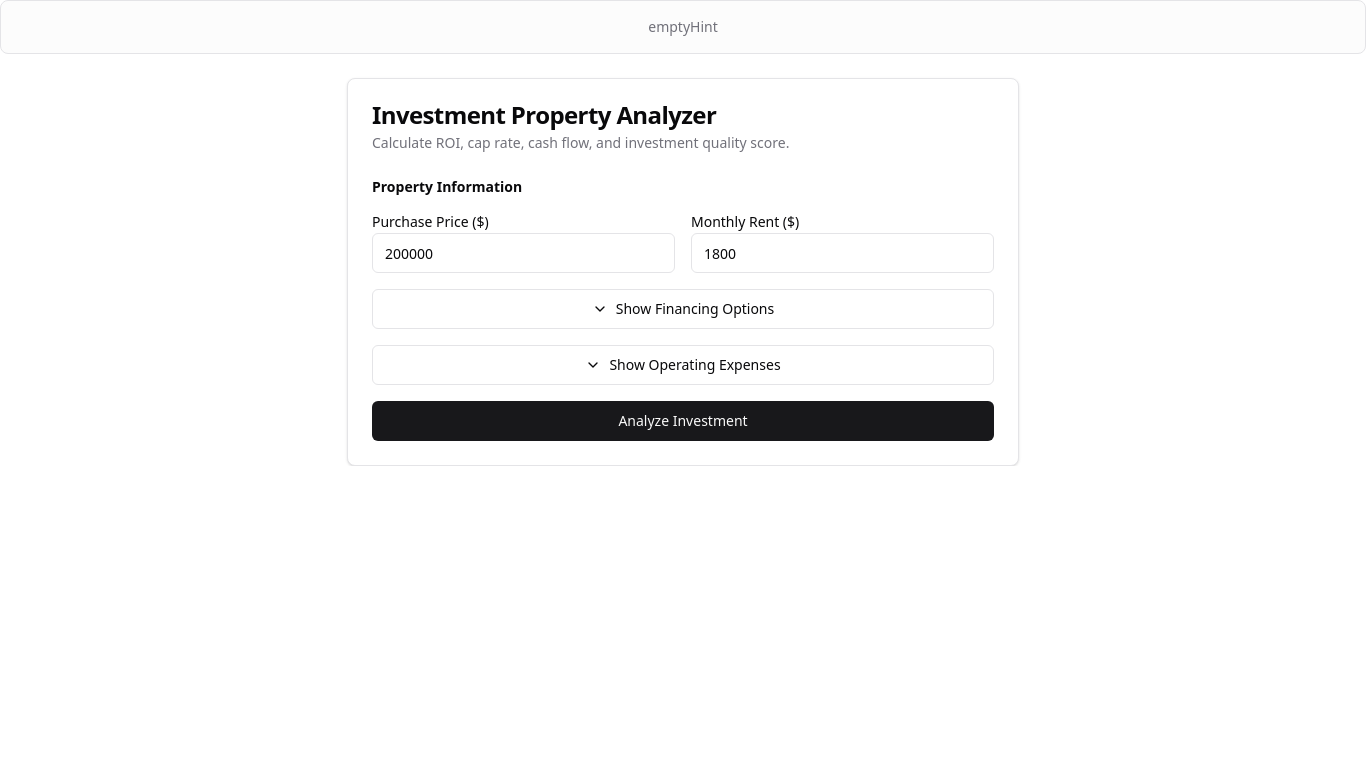
it: InvestmentAnalyzer › shows operating expenses when toggled
The width and height of the screenshot is (1366, 768).
Expected: the field labelled "Property Tax" is not shown
Click the button "Show Operating Expenses": (683, 365) [372, 345, 994, 385]
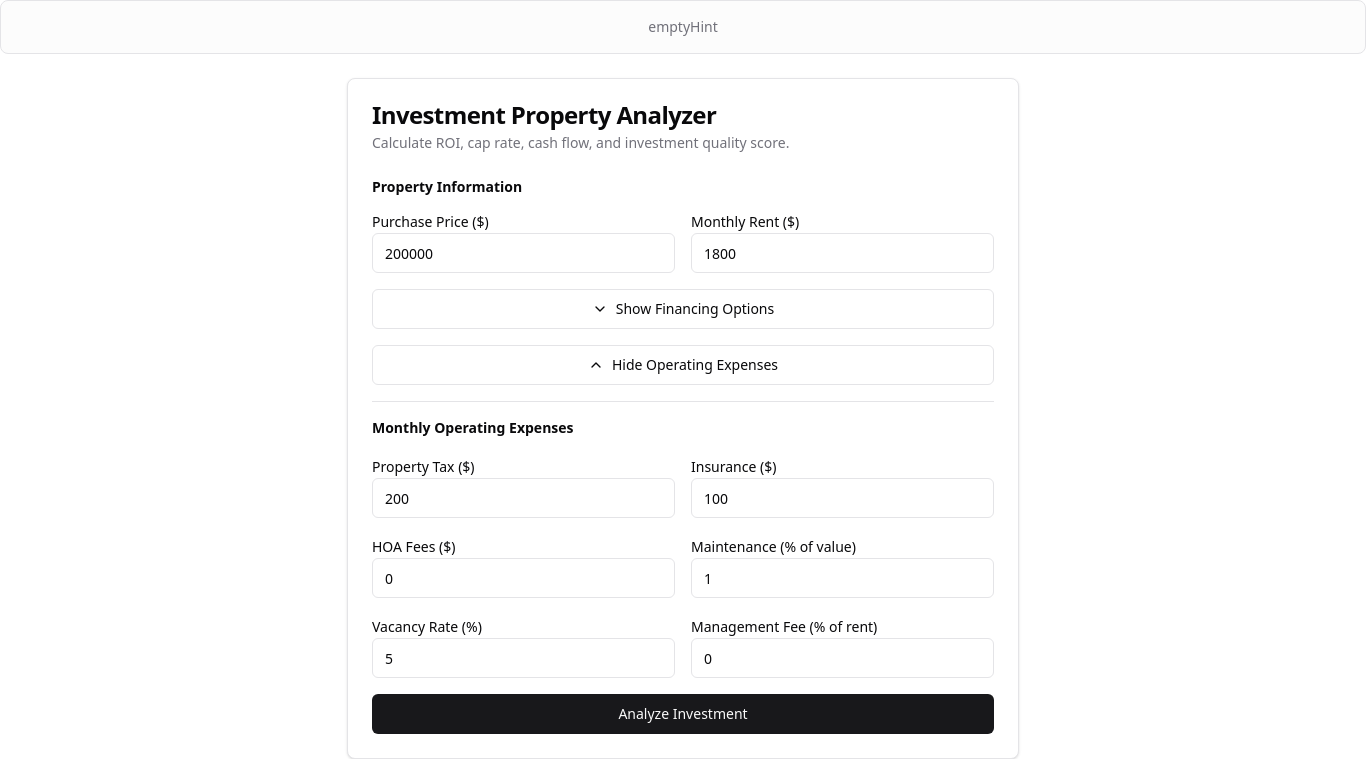
Result: the number field labelled "Property Tax ($)" is shown at [372, 478, 675, 518]
Result: the number field labelled "Insurance ($)" is shown at [691, 478, 994, 518]
Result: the number field labelled "HOA Fees ($)" is shown at [372, 558, 675, 598]
